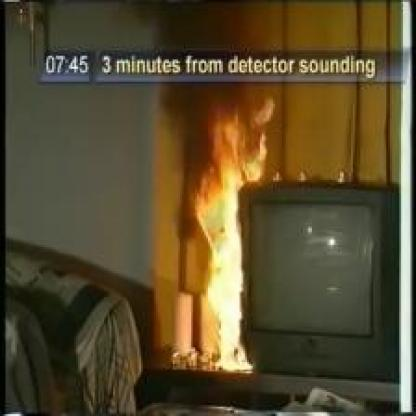fire: (174, 77, 284, 357)
